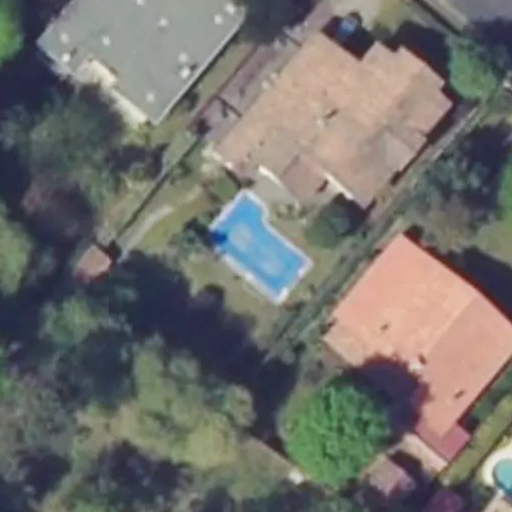pool: (210, 233, 310, 250)
